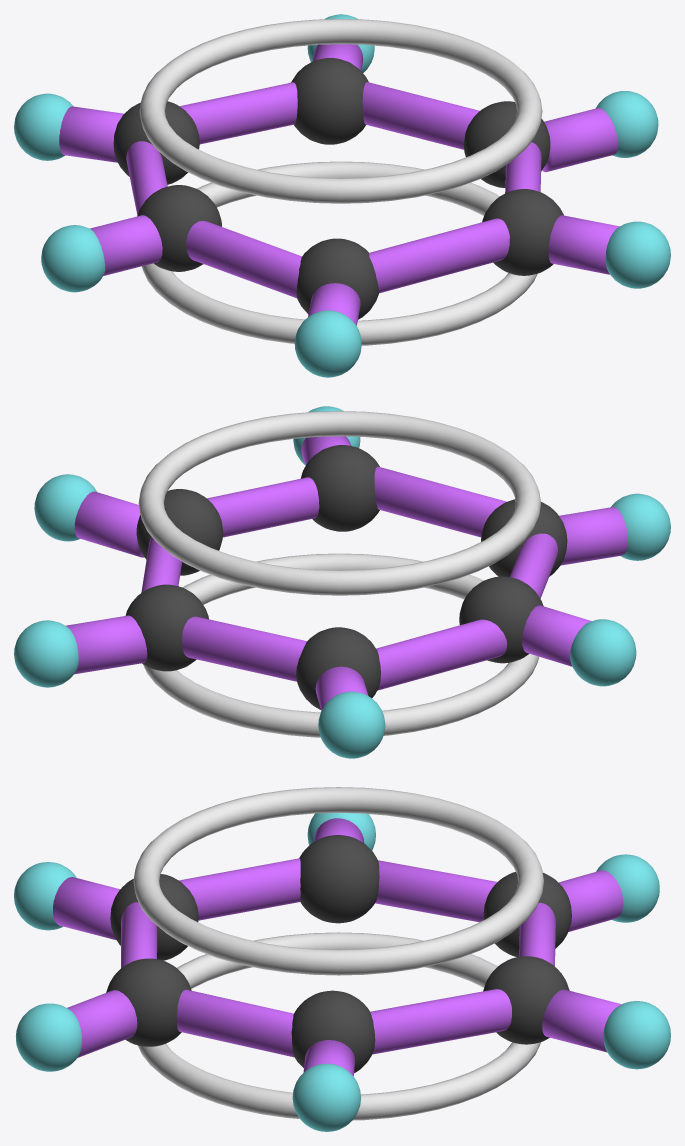
The model's file is Benzene.glb.
The picture shows the model from 3 angles, top to bottom: view 1: azimuth 30°, elevation 25°; view 2: azimuth 150°, elevation 25°; view 3: azimuth 270°, elevation 25°; orthographic projection. The views are drawn at different scales.
Parts seen in each view (by area): view 1: object 8, object 9, object 7, object 14, object 5, object 4, object 1, object 3, object 10, object 11, Material_006-material, Material_001-material (+13 smaller); view 2: object 8, object 9, object 2, object 1, object 7, object 3, object 14, object 6, object 13, object 11, Material_004-material, Material_005-material (+13 smaller); view 3: object 8, object 9, object 4, object 11, object 6, object 2, object 5, object 3, object 12, object 14, Material_002-material, Material_003-material (+14 smaller).
Part boxes in pixels (left/top/right/bottom): object 8: left=139, top=19, right=542, bottom=203; object 9: left=141, top=161, right=537, bottom=345; object 7: left=369, top=218, right=509, bottom=293; object 14: left=291, top=58, right=368, bottom=144; object 5: left=186, top=221, right=301, bottom=298; object 4: left=362, top=82, right=479, bottom=149; object 1: left=179, top=82, right=297, bottom=144; object 3: left=482, top=189, right=563, bottom=275; object 10: left=296, top=238, right=379, bottom=319; object 11: left=137, top=185, right=221, bottom=271; Material_006-material: left=294, top=310, right=361, bottom=377; Material_001-material: left=605, top=221, right=670, bottom=288; object 8: left=138, top=411, right=540, bottom=595; object 9: left=143, top=553, right=539, bottom=737; object 2: left=376, top=619, right=507, bottom=690; object 1: left=182, top=616, right=306, bottom=681; object 7: left=374, top=466, right=506, bottom=537; object 3: left=300, top=445, right=379, bottom=531; object 14: left=125, top=584, right=208, bottom=671; object 6: left=207, top=477, right=319, bottom=537; object 13: left=296, top=627, right=380, bottom=709; object 11: left=459, top=576, right=543, bottom=663; Material_004-material: left=318, top=691, right=385, bottom=758; Material_005-material: left=570, top=619, right=636, bottom=686; object 8: left=133, top=787, right=543, bottom=975; object 9: left=137, top=932, right=540, bottom=1120; object 4: left=370, top=989, right=511, bottom=1054; object 11: left=299, top=835, right=379, bottom=923; object 6: left=176, top=989, right=294, bottom=1057; object 2: left=375, top=860, right=497, bottom=922; object 5: left=179, top=858, right=300, bottom=920; object 3: left=106, top=958, right=191, bottom=1046; object 12: left=291, top=990, right=375, bottom=1073; object 14: left=483, top=956, right=569, bottom=1044; Material_002-material: left=292, top=1063, right=360, bottom=1131; Material_003-material: left=603, top=1001, right=670, bottom=1069.
Bounding box in the file's own units: 12.12 × 3.19 × 11.26.
